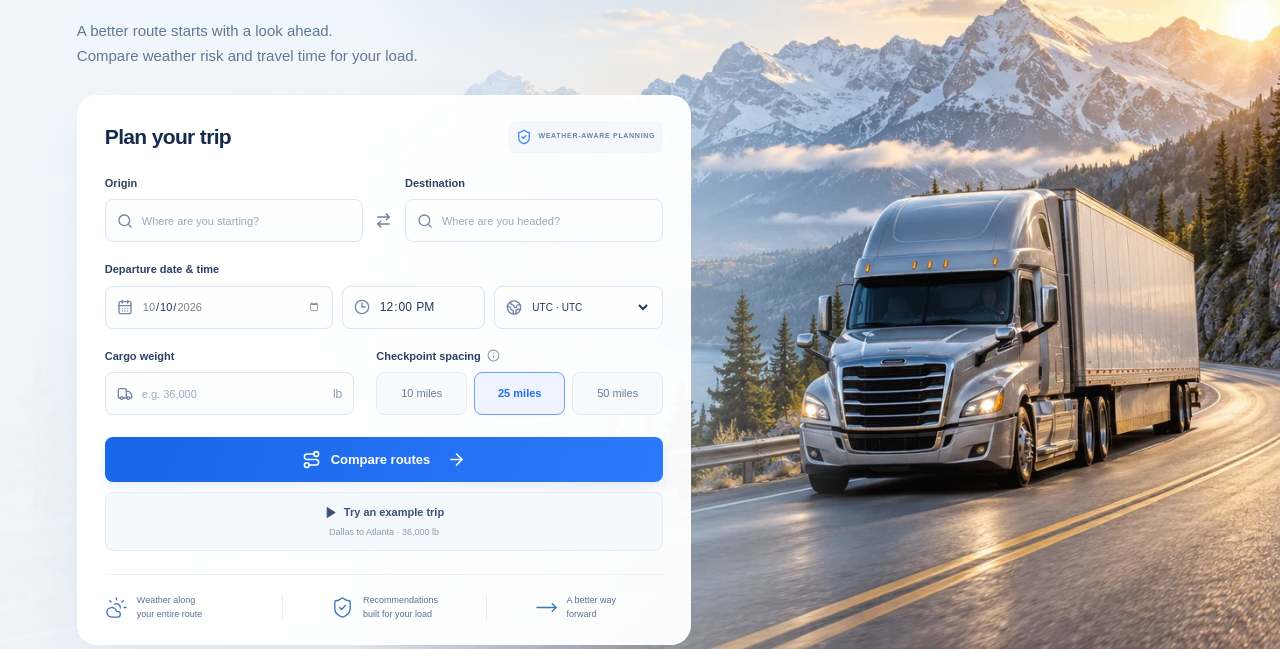
Test: preserves inputs and restores the action after a service failure
(page scrolled)
Click the button "Try an example trip Dallas to Atlanta · 36,000 lb".
click(394, 512)  # box [105,492,663,551]
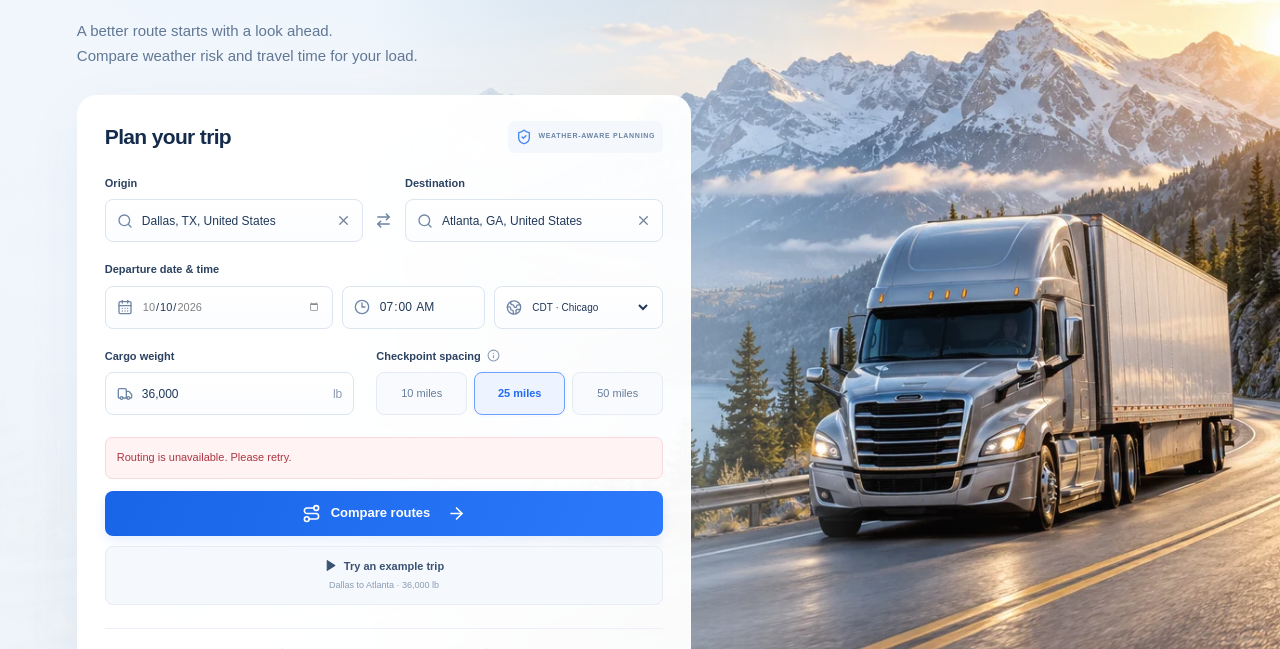
expect the button "Compare routes" is enabled: met, box [105,491,663,536]
expect the message reads "Routing is unavailable. Please retry.": met, box [117,451,292,463]
expect the field labelled "Cargo weight" holds "36,000": met, box [142,373,324,414]
